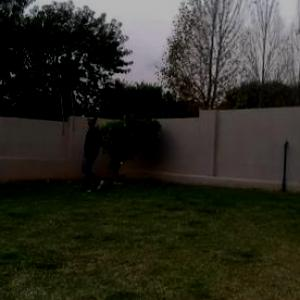follow: (81, 108, 102, 196)
